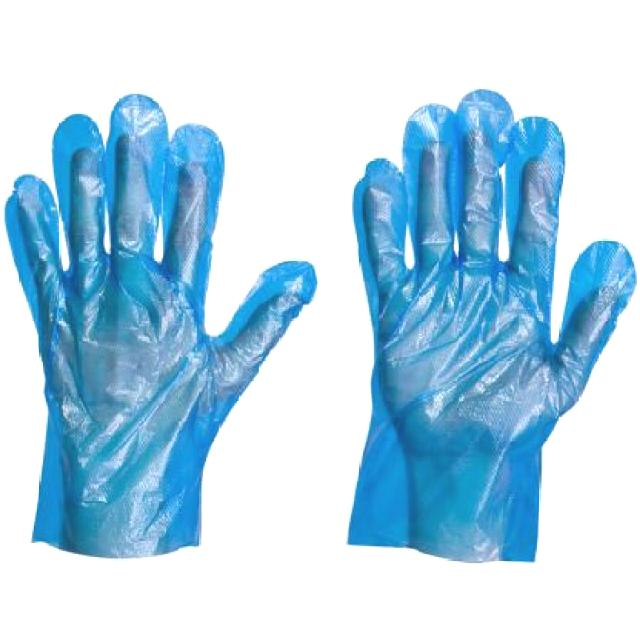glove: (10, 55, 315, 570), (334, 57, 635, 569)
